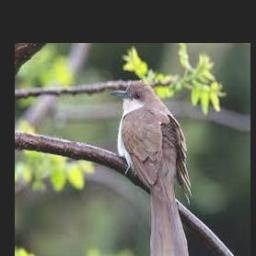Cuckoo: (111, 80, 192, 256)
